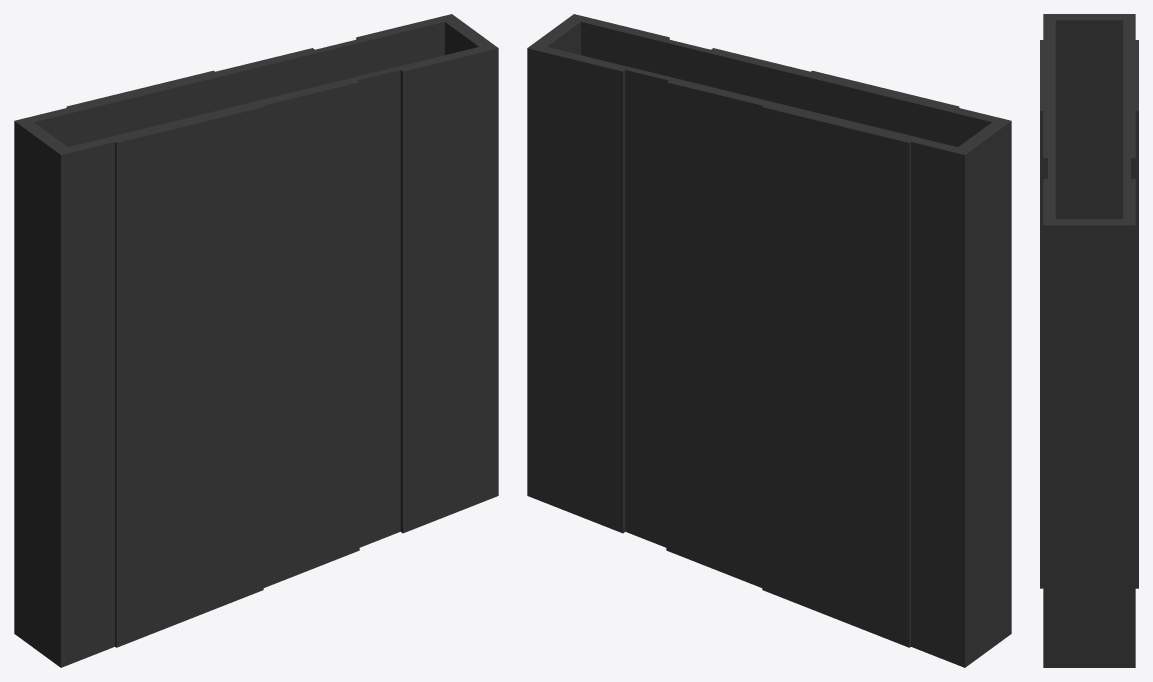
File: SniperRifle4_04_2.fbx
3 renders of one model, left to right at view 1: azimuth 30°, elevation 25°; view 2: azimuth 150°, elevation 25°; view 3: azimuth 270°, elevation 25°, orthographic.
Visible parts, largest first — view 1: SniperRifle4_04_2; view 2: SniperRifle4_04_2; view 3: SniperRifle4_04_2.
Part boxes in pixels (box(x1,y1,x2,y2)): SniperRifle4_04_2: box(14, 14, 498, 667); SniperRifle4_04_2: box(527, 14, 1011, 667); SniperRifle4_04_2: box(1040, 14, 1138, 667).
Size of the model in its own units: 0.1662 by 0.1861 by 0.0328.
